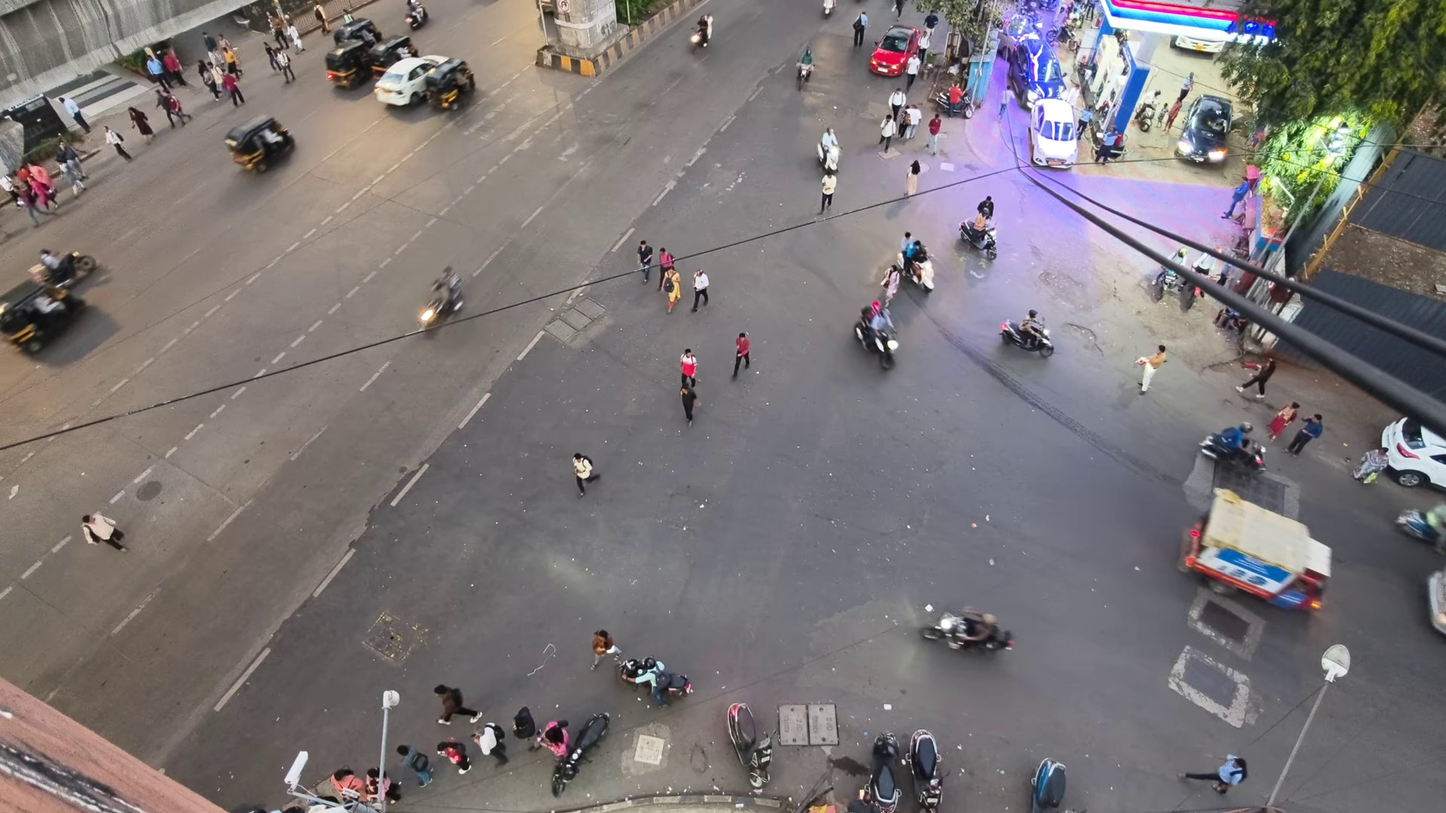walking: (1181, 754, 1247, 794), (434, 684, 480, 723), (1235, 358, 1276, 399), (82, 513, 126, 551), (16, 184, 54, 226), (1136, 344, 1167, 393), (1287, 413, 1322, 455), (473, 723, 508, 765), (396, 744, 431, 786), (1269, 402, 1300, 441), (591, 629, 621, 669), (1222, 179, 1252, 219), (331, 767, 366, 801), (572, 452, 599, 496), (438, 738, 471, 774), (366, 768, 400, 802), (537, 720, 567, 758), (59, 96, 90, 132), (1094, 124, 1122, 163), (514, 707, 539, 750), (58, 158, 86, 196), (162, 49, 188, 87), (104, 126, 132, 161), (145, 50, 169, 90), (197, 60, 221, 99), (881, 264, 902, 308), (127, 107, 153, 141), (164, 93, 191, 125), (662, 268, 681, 312), (691, 269, 709, 312), (733, 332, 750, 377), (222, 73, 245, 106), (155, 89, 174, 127), (637, 240, 653, 284), (904, 103, 923, 140), (680, 385, 697, 425), (221, 44, 242, 76), (679, 349, 697, 385), (820, 172, 836, 212), (276, 51, 295, 83), (268, 14, 285, 49), (888, 88, 906, 121), (905, 53, 921, 90), (1165, 96, 1182, 130), (880, 116, 896, 152), (927, 113, 941, 154), (660, 247, 673, 291), (203, 31, 220, 64), (286, 22, 304, 52), (906, 160, 921, 196), (948, 79, 962, 117), (853, 11, 867, 47), (313, 3, 329, 33), (1179, 72, 1194, 101), (264, 43, 279, 72), (211, 63, 225, 91), (923, 11, 939, 35), (893, 0, 905, 18)
